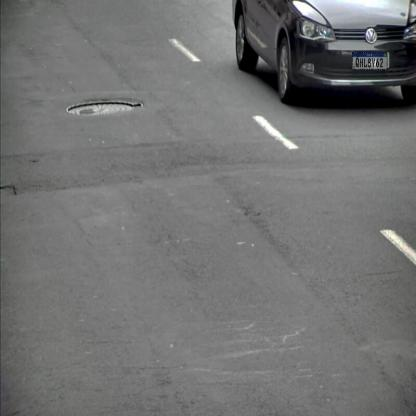PlacaM: (352, 52, 387, 70)
